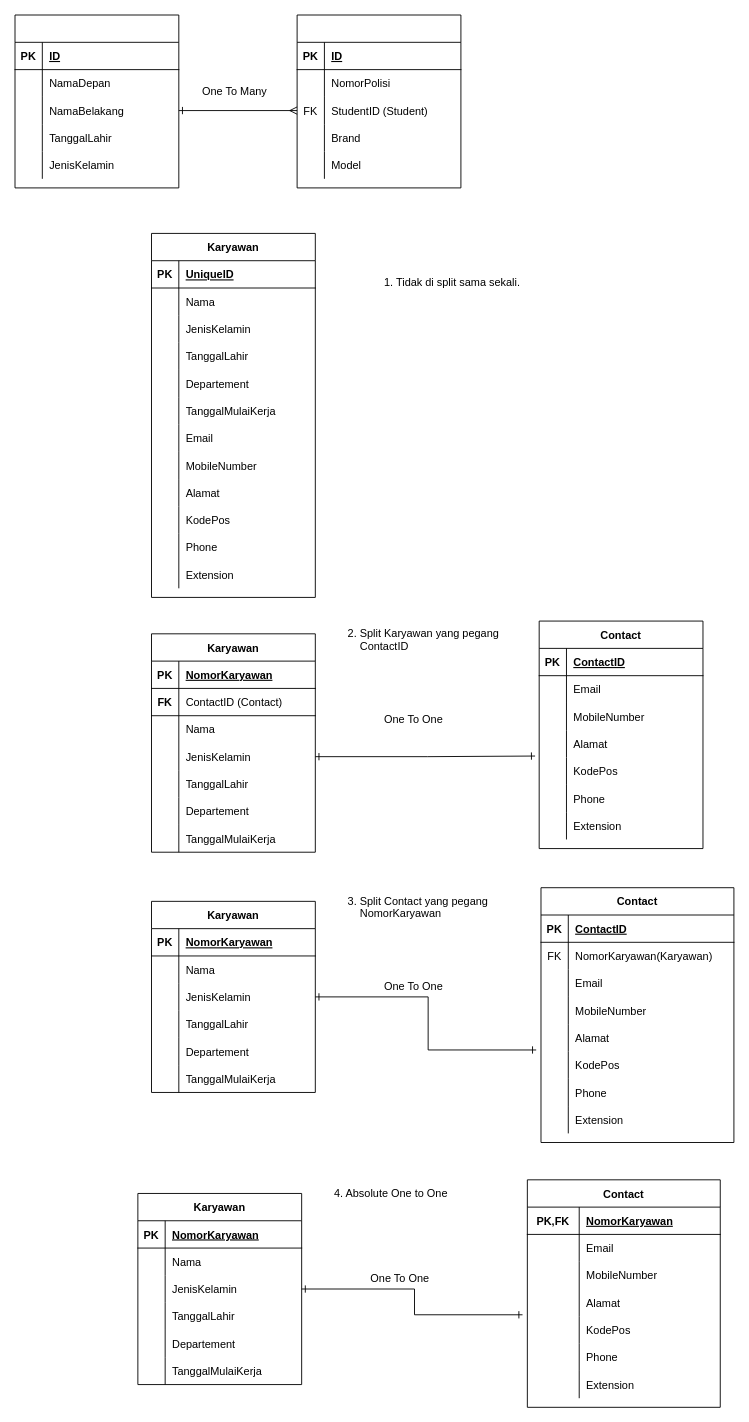
Image size: 749x1422. Some labels were removed from this diagram. Each missing label, with the box of its shape:
Kendaraan: (296, 14, 461, 188)
Student: (14, 14, 179, 188)
